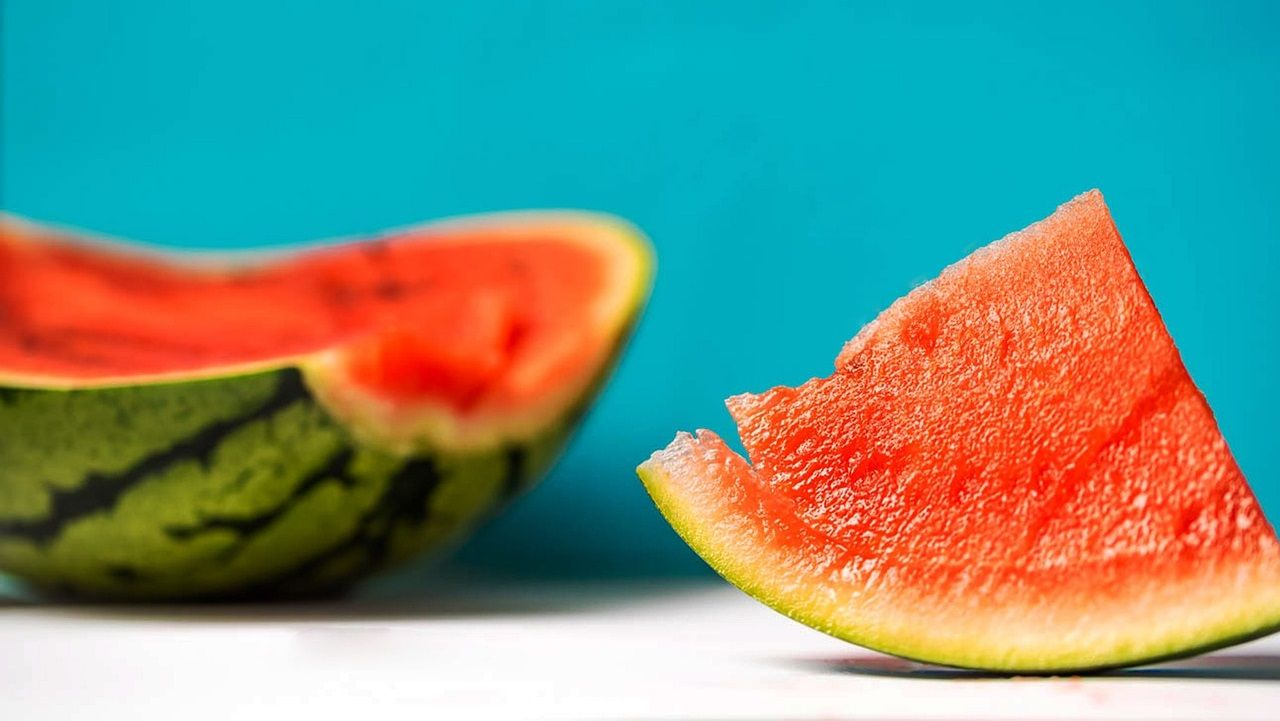Semangka: (674, 177, 1260, 721)
